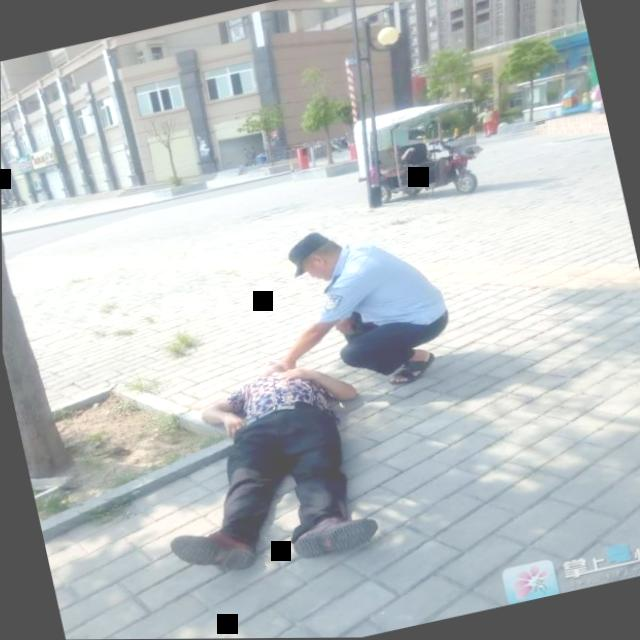Fall-Detected: (105, 329, 407, 602)
